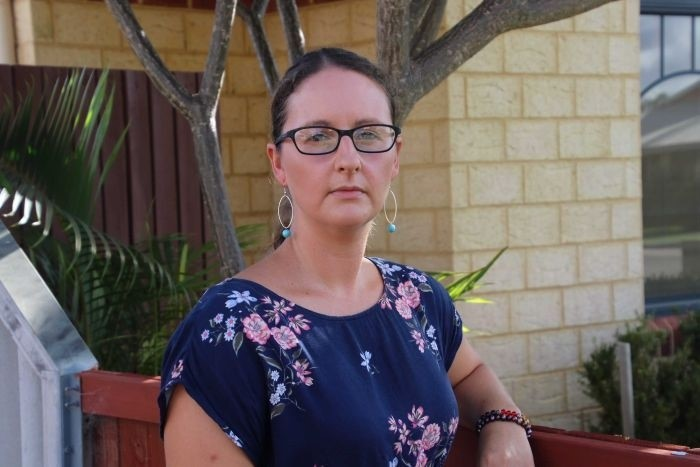face_no_mask: (279, 61, 397, 233)
